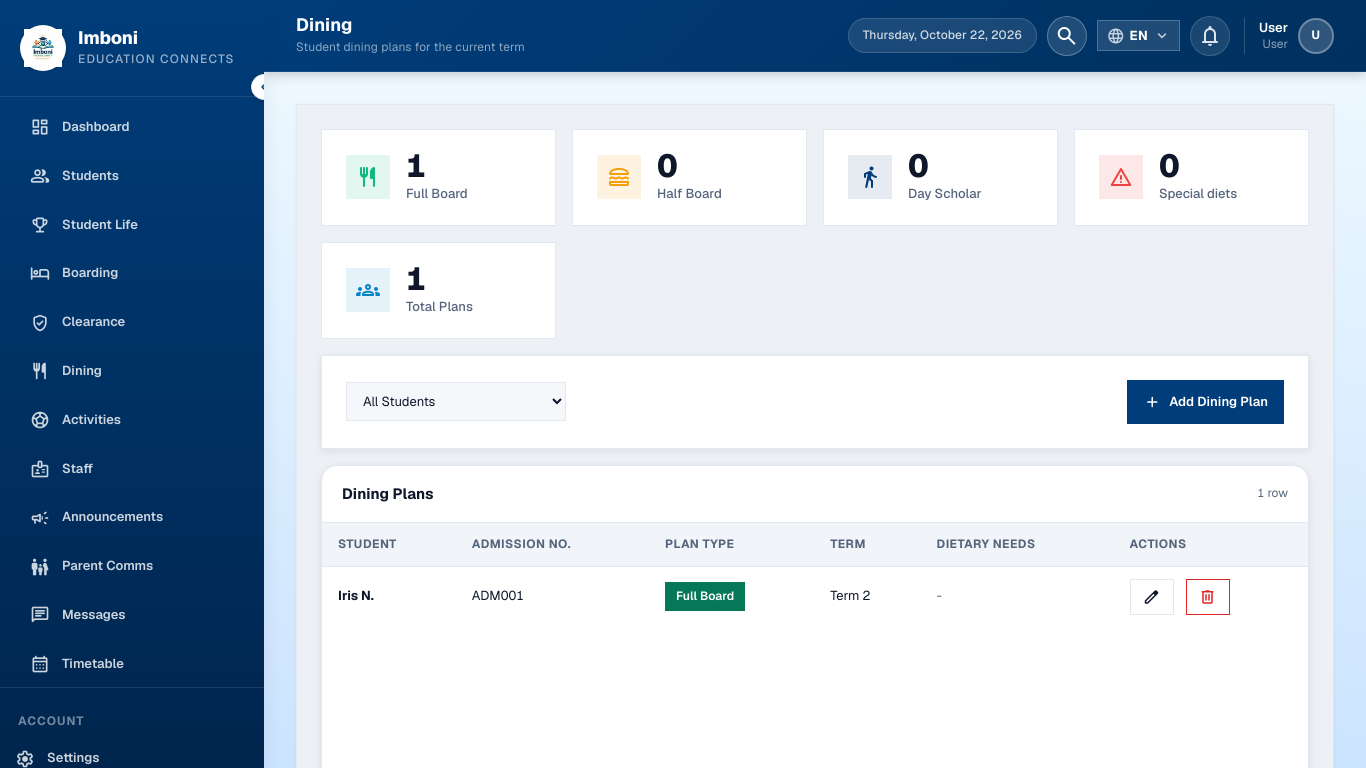
Test: DisDining › deletes a dining plan after confirming
This screenshot has width=1366, height=768.
Expected: the text "Iris N." is shown, 338,587 -> 374,604
Click the button named "Delete — Iris N.".
click(1208, 597)  # box 1186,579 -> 1230,615
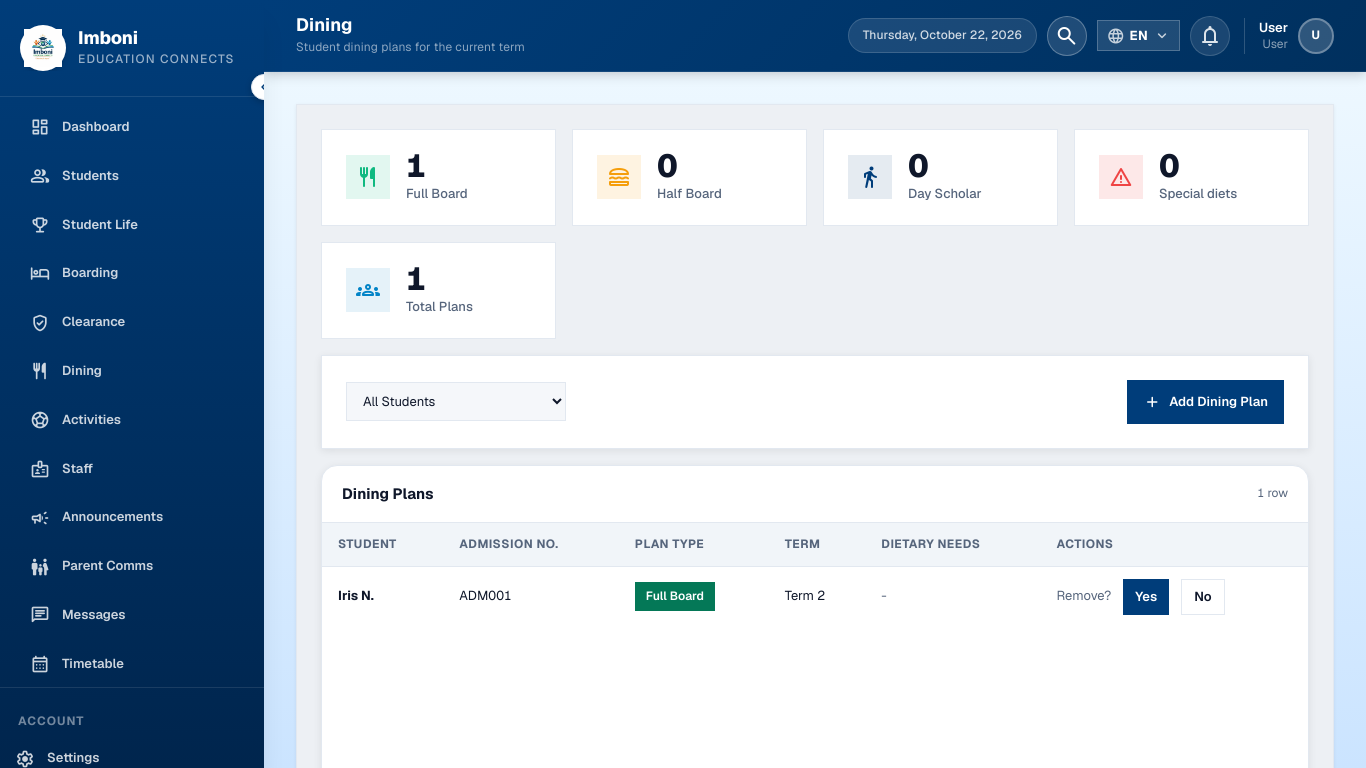
Click the button "Yes".
click(1146, 597)  # box 1123,579 -> 1169,615
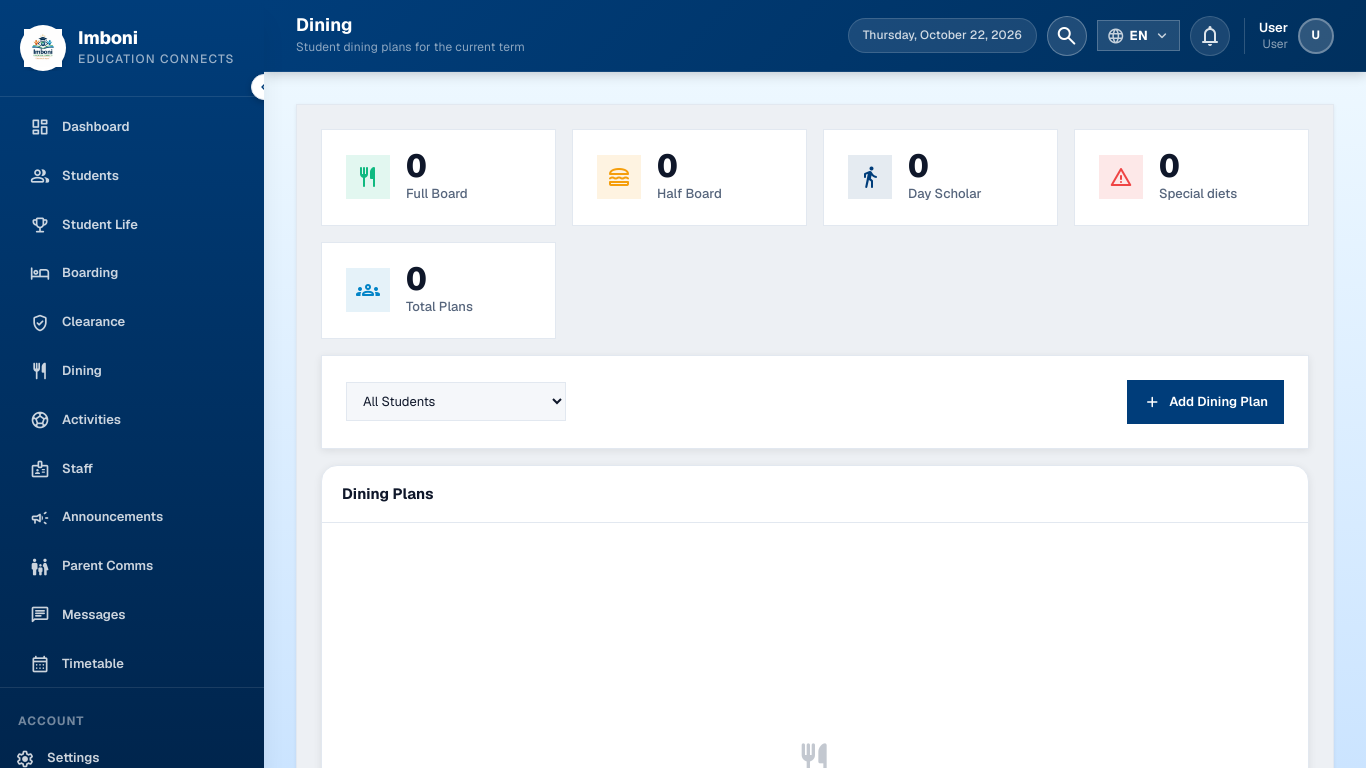
Expected: the text "Iris N." is gone
